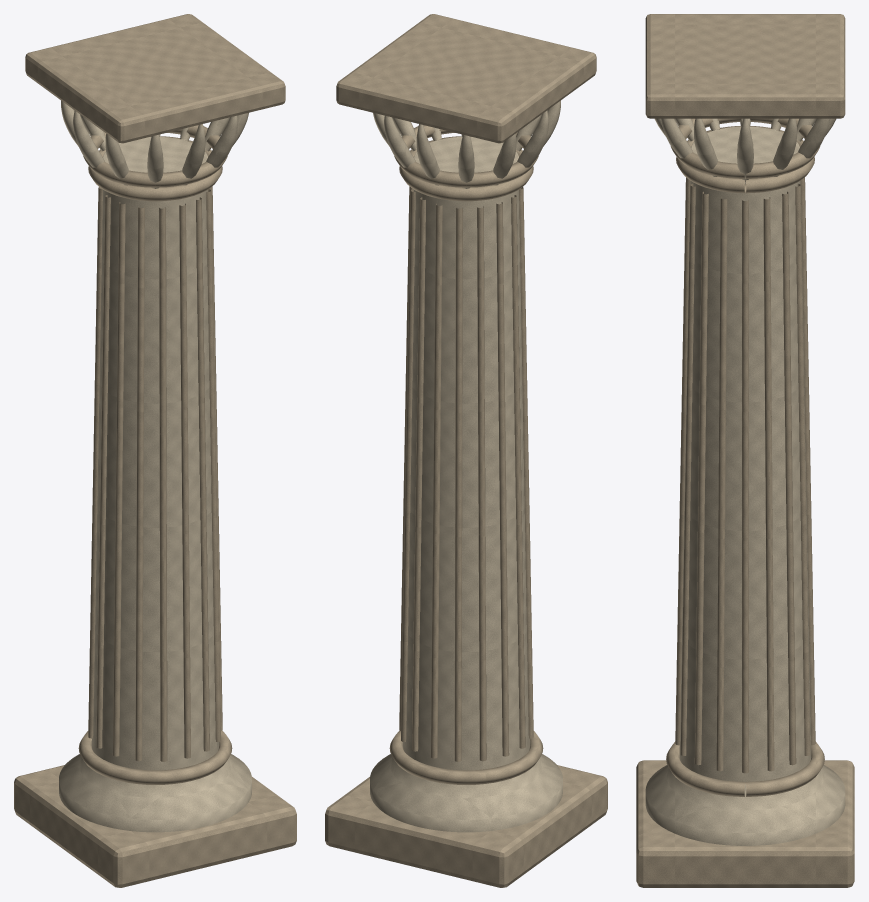
Rendered from sanctuary_column.glb.
The picture shows the model from 3 angles, left to right: view 1: azimuth 30°, elevation 25°; view 2: azimuth 150°, elevation 25°; view 3: azimuth 270°, elevation 25°; orthographic projection. The views are drawn at different scales.
Parts seen in each view (by area): view 1: Column_cut_stone, Column_limestone; view 2: Column_cut_stone, Column_limestone; view 3: Column_cut_stone, Column_limestone.
Part boxes in pixels (x1,y1,x2,y2): Column_cut_stone: (14, 14, 296, 887); Column_limestone: (59, 100, 251, 832); Column_cut_stone: (325, 14, 607, 887); Column_limestone: (370, 100, 562, 832); Column_cut_stone: (636, 14, 854, 887); Column_limestone: (645, 118, 845, 845).
Size of the model in its own units: 1.55 by 6.19 by 1.55.
2 materials, 2 textured.
